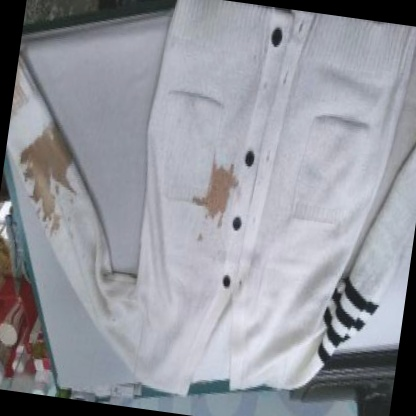coffee: (22, 132, 75, 187), (205, 164, 234, 216)
